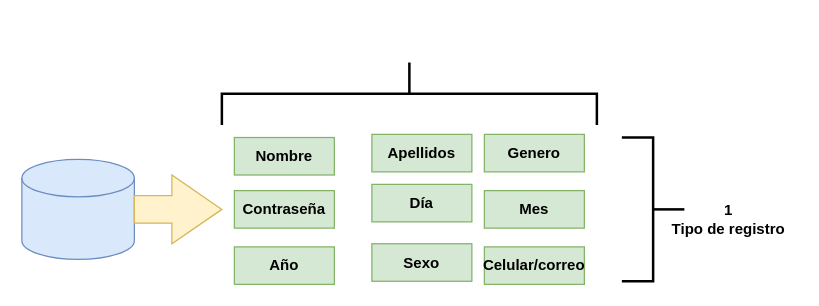
The diagram is 819 pixels wide and 306 high, and some of its shapes have lost their labels. Here are the shapes that lost their labels. From the top down, the centre of each, then its label:
At (x=409, y=93): "9 Atributos".
At (x=77, y=208): "Usuarios (registro)".
